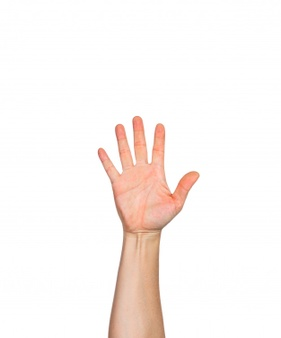open_hand: (79, 115, 213, 238)
